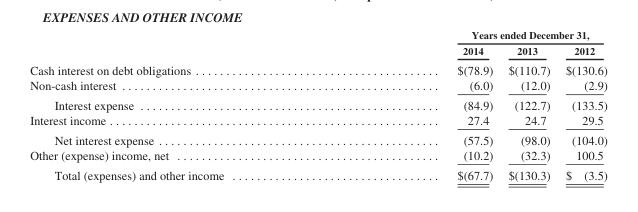table: (29, 28, 606, 181)
table column: (29, 28, 340, 181), (340, 28, 500, 181), (500, 28, 557, 181), (557, 28, 606, 181)
table column header: (29, 28, 606, 59)
table row: (29, 59, 606, 77), (29, 94, 606, 112), (29, 129, 606, 147), (29, 42, 606, 59), (29, 77, 606, 94), (29, 112, 606, 129), (29, 147, 606, 164), (29, 164, 606, 181), (29, 28, 606, 42)
table spanning cell: (340, 28, 606, 42)
